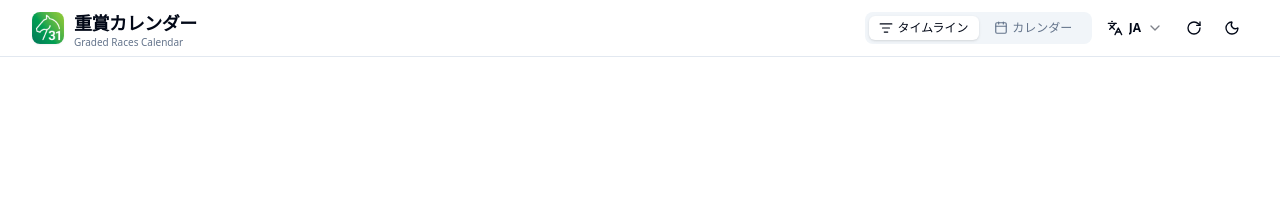
Test case: Header › 言語切替ドロップダウンを開いた際もヘッダーが安定して表示・維持されること (Issue #132)
Expected: the header is shown, [0,0,1279,57]
言語切替セレクターをタップして開く
Click the dropdown named "言語を選択 (日本語)": (1135, 28) [1098,12,1172,44]
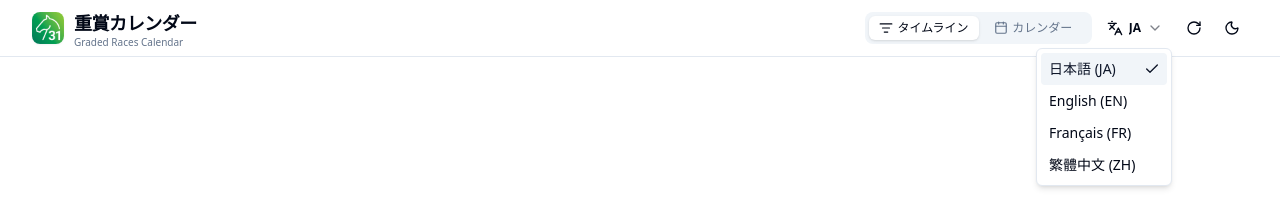
Expected: the header is shown, [0,0,1279,57]
Now the option "English (EN)" is shown, box [1049,91,1127,110]
Now the option "Français (FR)" is shown, box [1049,123,1131,142]
